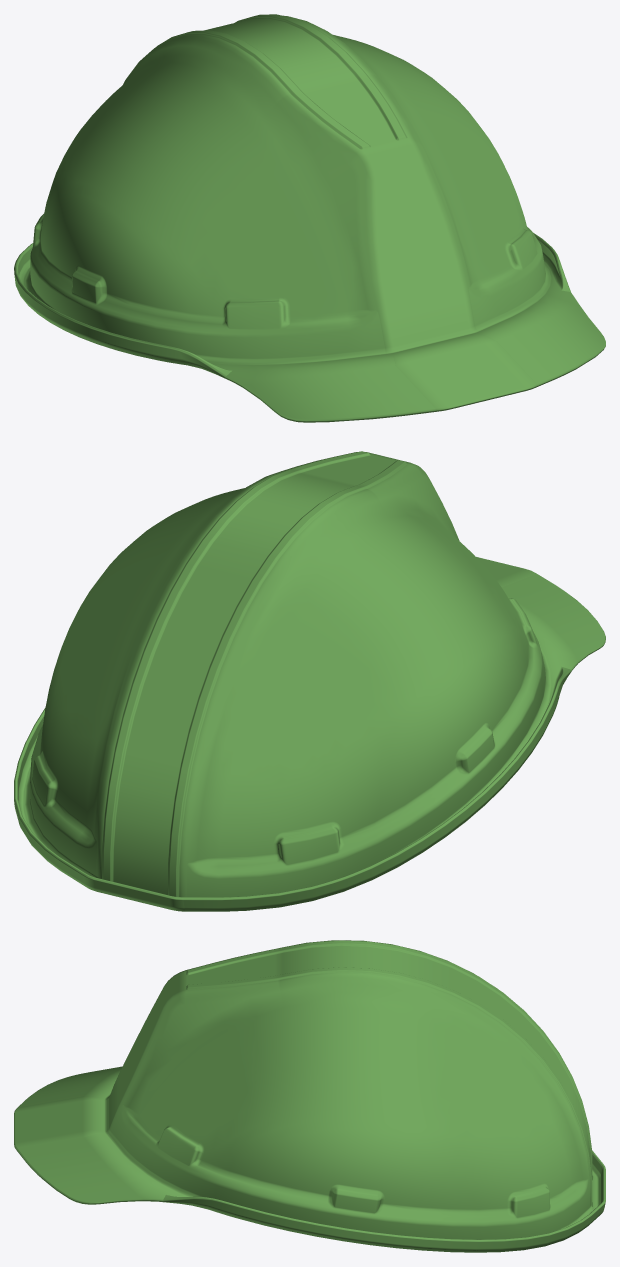
File: capacete.gltf
3 views of the same model, one above another, from view 1: azimuth 30°, elevation 25°; view 2: azimuth 150°, elevation 25°; view 3: azimuth 270°, elevation 25° (orthographic). The views are drawn at different scales.
Visible parts, largest first — view 1: stitch_result_stitch all.005; view 2: stitch_result_stitch all.005; view 3: stitch_result_stitch all.005.
Part boxes in pixels (box(x1,y1,x2,y2)): stitch_result_stitch all.005: box(14, 14, 605, 422); stitch_result_stitch all.005: box(14, 451, 605, 911); stitch_result_stitch all.005: box(14, 940, 605, 1252).
Bounding box in the file's own units: 0.2519 × 0.1639 × 0.3631.
